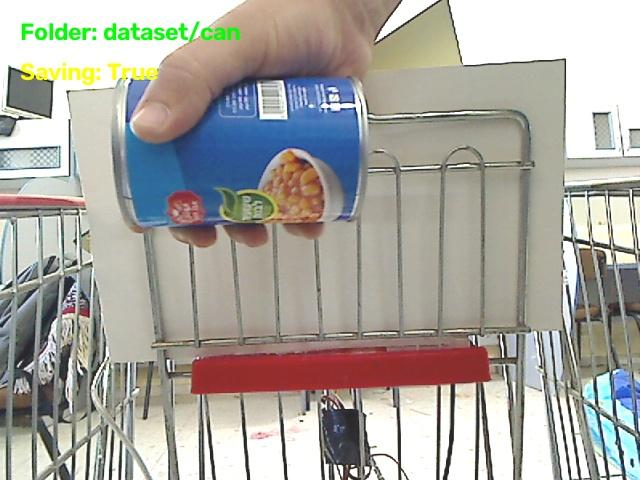can: (112, 78, 367, 226)
